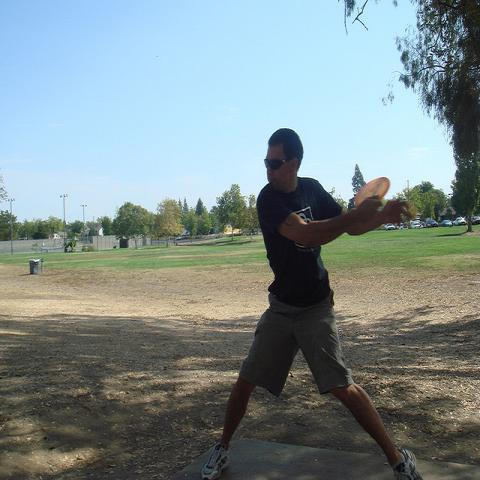car: (384, 223, 396, 232), (454, 217, 467, 225), (396, 223, 408, 229), (412, 221, 421, 229), (441, 220, 452, 226), (472, 217, 479, 226), (432, 219, 438, 228), (449, 221, 459, 226)
